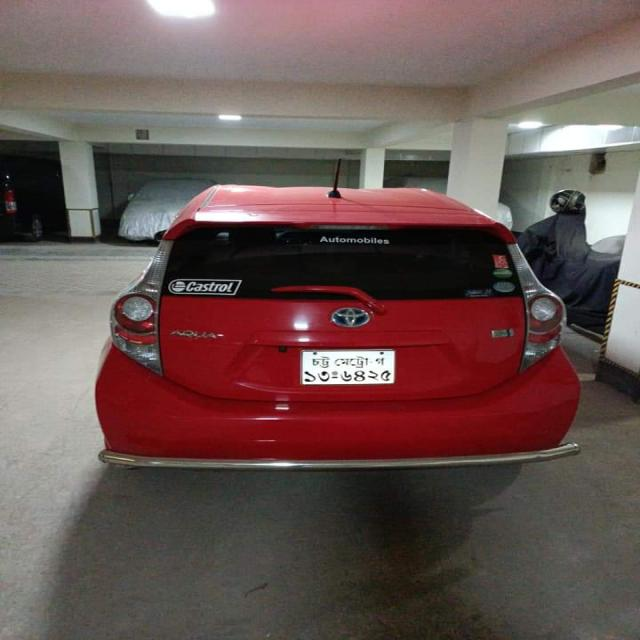red: (96, 187, 584, 493)
